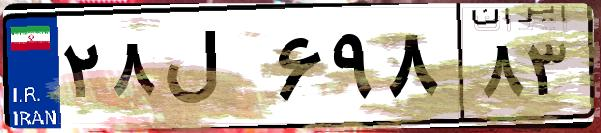2: (57, 26, 110, 100)
3: (525, 38, 570, 115)
6: (270, 28, 330, 110)
8: (385, 28, 445, 110), (475, 38, 525, 113), (110, 28, 158, 98)
9: (330, 28, 385, 110)
ل: (158, 20, 270, 120)
